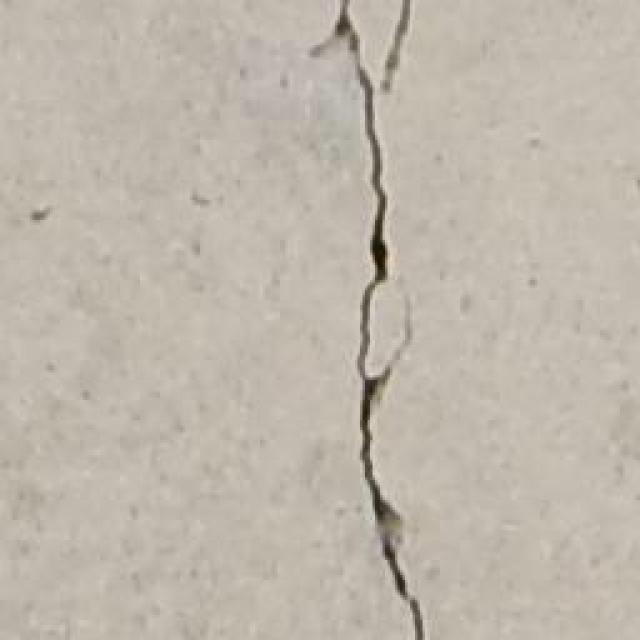concrete-crack: (308, 0, 428, 640)
